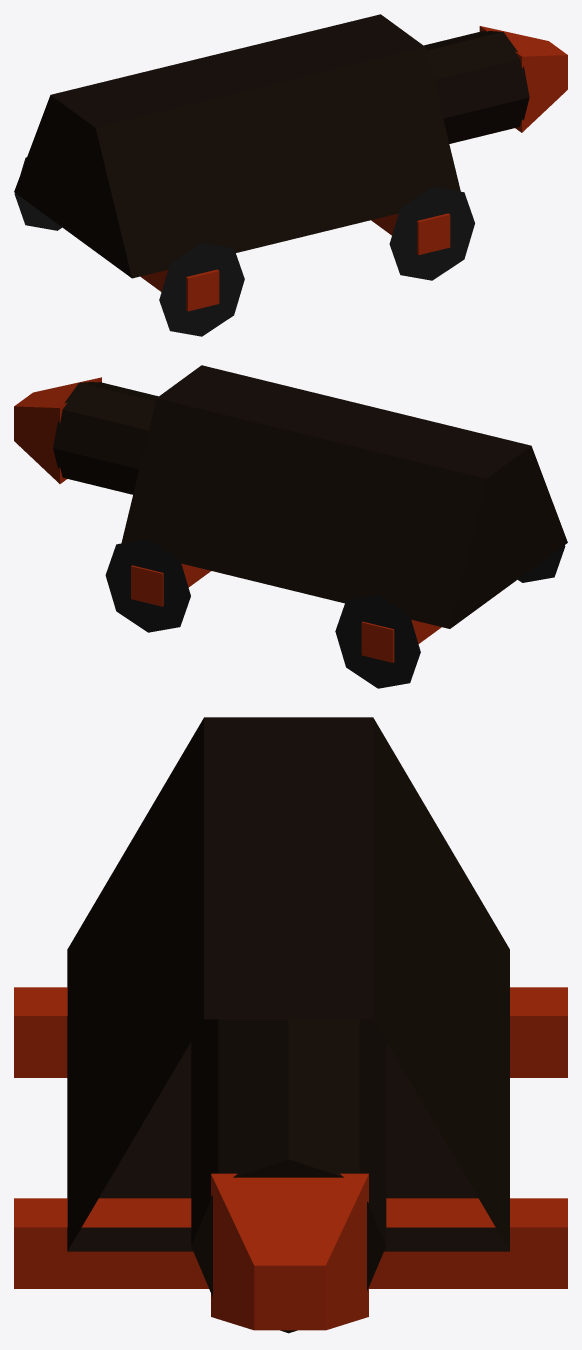
The model's file is heavybatteringram2f.obj.
3 views of the same model, one above another, from view 1: azimuth 30°, elevation 25°; view 2: azimuth 150°, elevation 25°; view 3: azimuth 270°, elevation 25° (orthographic). The views are drawn at different scales.
Visible parts, largest first — view 1: Cube, Plane.003, Plane.002, Cube.003, Cube.002, Cube.001, Plane.001; view 2: Cube, Plane, Plane.001, Cube.003, Cube.002, Cube.001, Plane.002; view 3: Cube, Cube.001, Cube.003, Cube.002.
Part boxes in pixels (x1,y1,x2,y2): Cube: [14, 14, 529, 278]; Plane.003: [389, 186, 474, 280]; Plane.002: [159, 242, 244, 336]; Cube.003: [479, 26, 567, 132]; Cube.002: [140, 269, 219, 311]; Cube.001: [371, 213, 450, 254]; Plane.001: [14, 157, 61, 230]; Cube: [53, 365, 567, 628]; Plane: [105, 539, 190, 632]; Plane.001: [335, 595, 420, 688]; Cube.003: [14, 377, 101, 483]; Cube.002: [361, 619, 441, 662]; Cube.001: [131, 563, 210, 606]; Plane.002: [518, 545, 565, 582]; Cube: [67, 717, 509, 1333]; Cube.001: [14, 1198, 567, 1288]; Cube.003: [211, 1173, 368, 1330]; Cube.002: [14, 987, 567, 1077].
Bounding box in the file's own units: 11.32 × 4.17 × 5.96.
